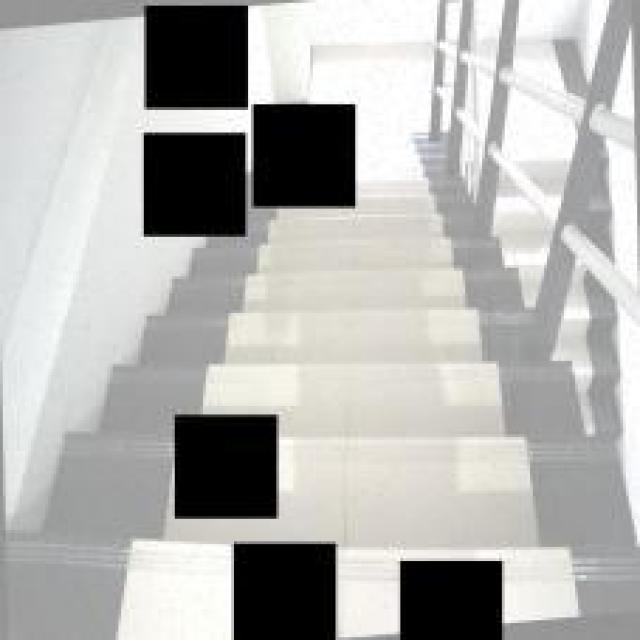downstair: (252, 221, 511, 413)
